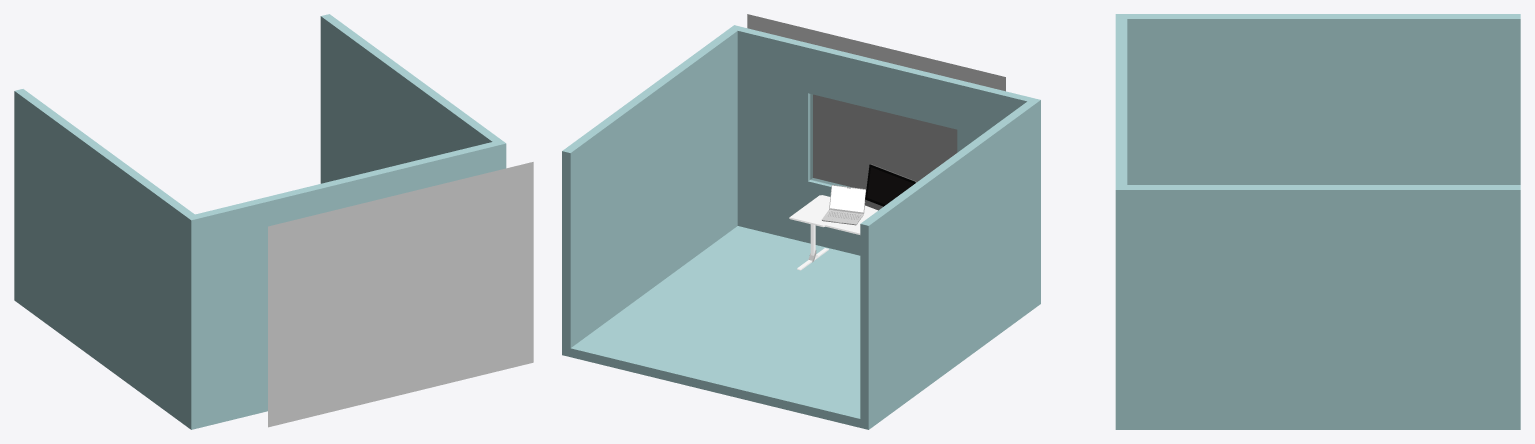
File: 30days.glb
The picture shows the model from 3 angles, left to right: view 1: azimuth 30°, elevation 25°; view 2: azimuth 150°, elevation 25°; view 3: azimuth 270°, elevation 25°; orthographic projection. The views are drawn at different scales.
Visible parts, largest first — view 1: window, bg.001; view 2: window, bg.001, glass, Plane_0, nAIWMiVEtSYdjdZ, table_top; view 3: window.
Part boxes in pixels (x1=…): window: x1=14, y1=14, x2=506, y2=429; bg.001: x1=268, y1=162, x2=533, y2=427; window: x1=562, y1=25, x2=1040, y2=429; bg.001: x1=747, y1=14, x2=1005, y2=189; glass: x1=810, y1=94, x2=956, y2=188; Plane_0: x1=865, y1=164, x2=916, y2=210; nAIWMiVEtSYdjdZ: x1=822, y1=185, x2=865, y2=224; table_top: x1=789, y1=195, x2=877, y2=234; window: x1=1115, y1=14, x2=1520, y2=429.
Bounding box in the file's own units: 13.96 × 8.69 × 14.8.
